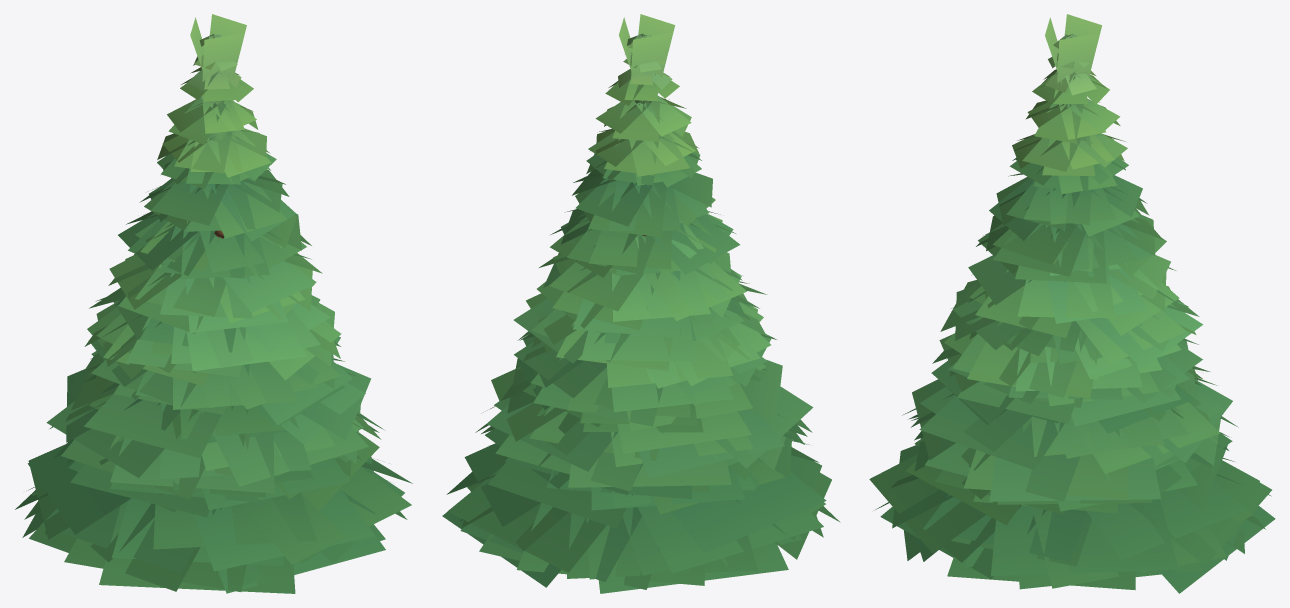
Rendered from veg_wild_pine.glb.
The picture shows the model from 3 angles, left to right: view 1: azimuth 30°, elevation 25°; view 2: azimuth 150°, elevation 25°; view 3: azimuth 270°, elevation 25°; orthographic projection.
Visible parts, largest first — view 1: SM_scatter_veg_leaf_clip_x0_z0_raw.008; view 2: SM_scatter_veg_leaf_clip_x0_z0_raw.008; view 3: SM_scatter_veg_leaf_clip_x0_z0_raw.008.
Part boxes in pixels (x1,y1,x2,y2): SM_scatter_veg_leaf_clip_x0_z0_raw.008: [15, 14, 412, 593]; SM_scatter_veg_leaf_clip_x0_z0_raw.008: [442, 14, 840, 593]; SM_scatter_veg_leaf_clip_x0_z0_raw.008: [869, 14, 1275, 593].
Bounding box in the file's own units: 3.08 × 4.19 × 3.12.
